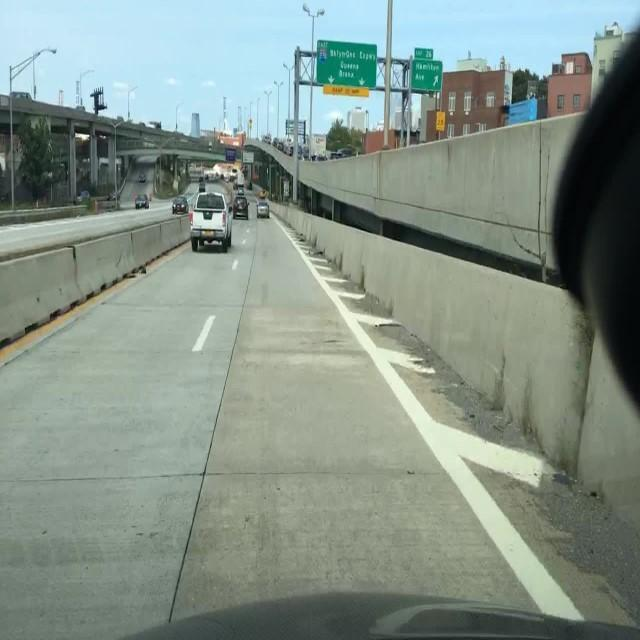normal: (191, 189, 235, 252), (255, 200, 269, 218)
